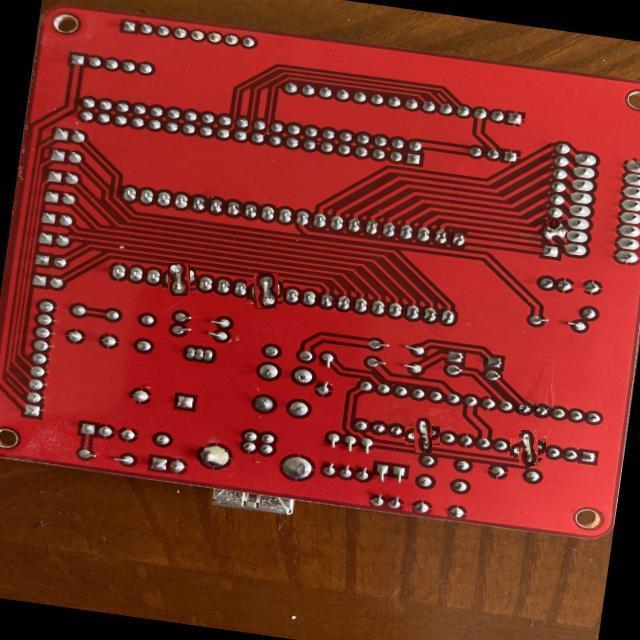damged: (250, 276, 281, 307), (514, 434, 542, 462), (166, 266, 193, 294), (409, 422, 436, 449), (542, 220, 566, 244)
